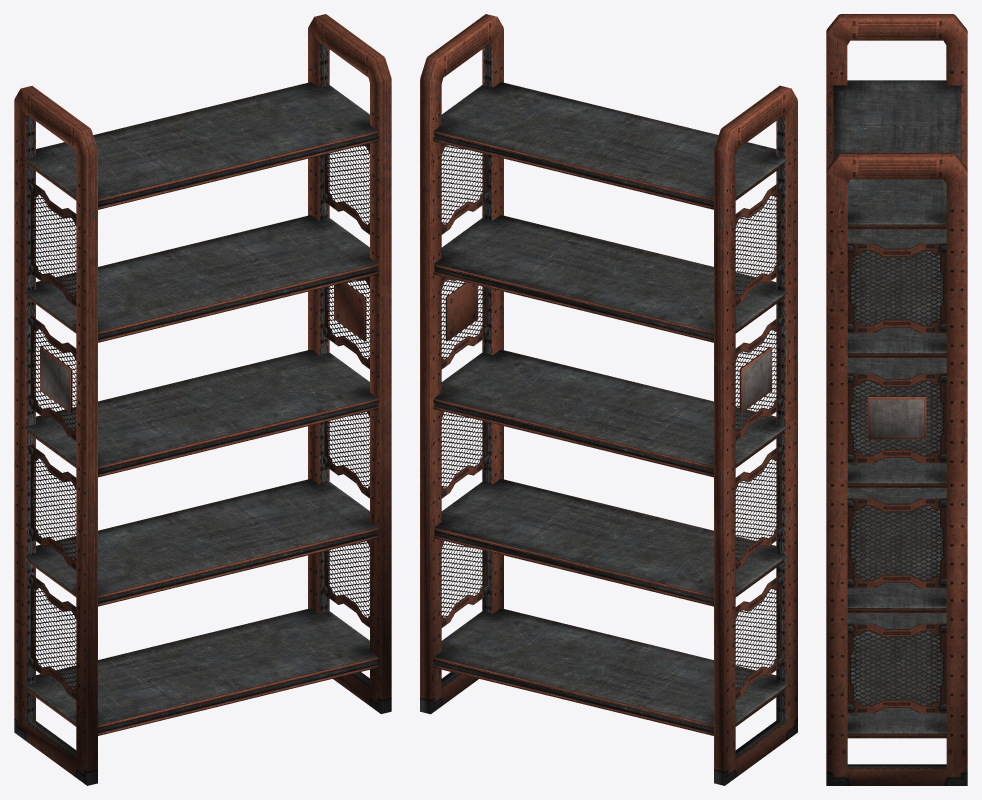
File: shelf_storage.dae
3 views of the same model, side by side, from view 1: azimuth 30°, elevation 25°; view 2: azimuth 150°, elevation 25°; view 3: azimuth 270°, elevation 25° (orthographic). The views are drawn at different scales.
Visible parts, largest first — view 1: polySurface72, polySurface64, polySurface66, polySurface62, polySurface73, pCube35, pCube25; view 2: polySurface72, polySurface64, polySurface66, polySurface62, polySurface73, pCube35, pCube25; view 3: polySurface72, polySurface64, polySurface66, polySurface62, polySurface73, pCube25, polySurface65.
Boxes of the visible parts, left/top/right/bottom form: polySurface72: left=25, top=82, right=377, bottom=732; polySurface64: left=14, top=14, right=391, bottom=785; polySurface66: left=30, top=143, right=369, bottom=699; polySurface62: left=28, top=82, right=378, bottom=735; polySurface73: left=31, top=159, right=369, bottom=695; pCube35: left=40, top=347, right=72, bottom=412; pCube25: left=334, top=282, right=366, bottom=341; polySurface72: left=434, top=82, right=786, bottom=732; polySurface64: left=420, top=14, right=797, bottom=785; polySurface66: left=441, top=143, right=781, bottom=699; polySurface62: left=433, top=82, right=783, bottom=735; polySurface73: left=441, top=153, right=781, bottom=696; pCube35: left=739, top=347, right=771, bottom=412; pCube25: left=445, top=282, right=477, bottom=341; polySurface72: left=833, top=80, right=960, bottom=733; polySurface64: left=826, top=14, right=967, bottom=785; polySurface66: left=847, top=243, right=946, bottom=713; polySurface62: left=831, top=85, right=962, bottom=738; polySurface73: left=847, top=249, right=945, bottom=713; pCube25: left=867, top=396, right=926, bottom=439; polySurface65: left=847, top=245, right=946, bottom=711.
Size of the model in its own units: 1.35 by 2.74 by 0.5598.
Materials: 1 (1 with a texture image).
